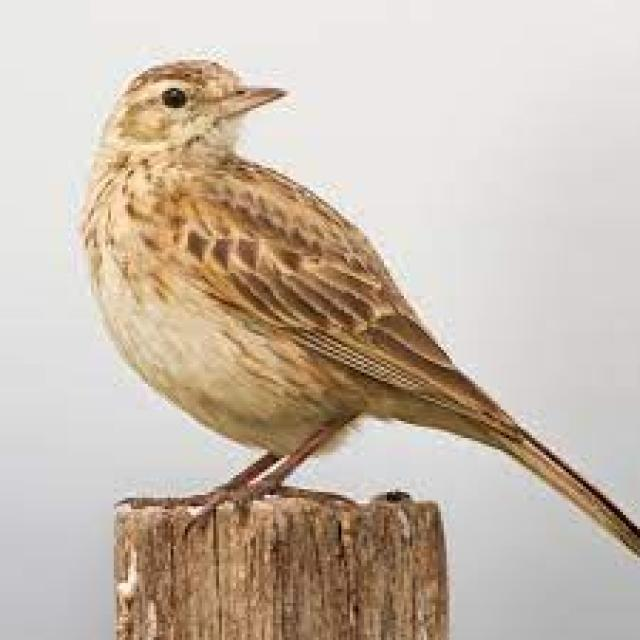bird: (63, 58, 631, 530)
